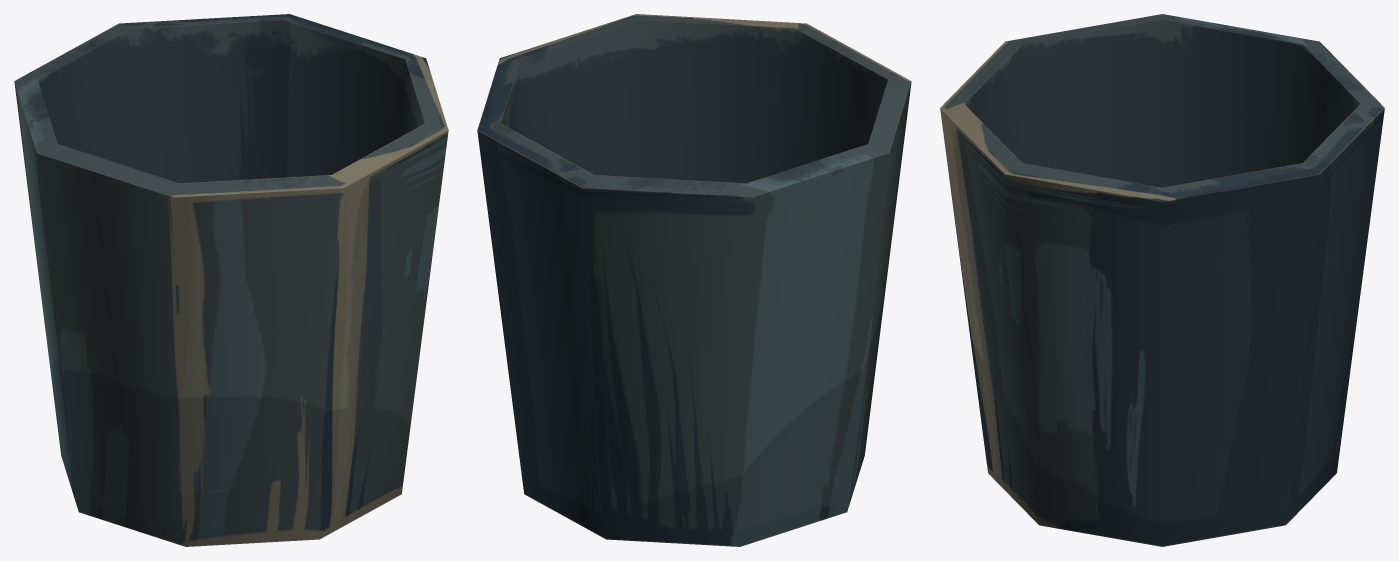
The model's file is kosz.fbx.
The picture shows the model from 3 angles, left to right: view 1: azimuth 30°, elevation 25°; view 2: azimuth 150°, elevation 25°; view 3: azimuth 270°, elevation 25°; orthographic projection.
Visible parts, largest first — view 1: Trash_can.001; view 2: Trash_can.001; view 3: Trash_can.001.
Boxes of the visible parts, bbox=[...] form: Trash_can.001: bbox=[14, 14, 448, 546]; Trash_can.001: bbox=[477, 14, 911, 546]; Trash_can.001: bbox=[940, 14, 1384, 546].
Bounding box in the file's own units: 43.63 × 39.98 × 43.63.
1 material, 1 textured.
